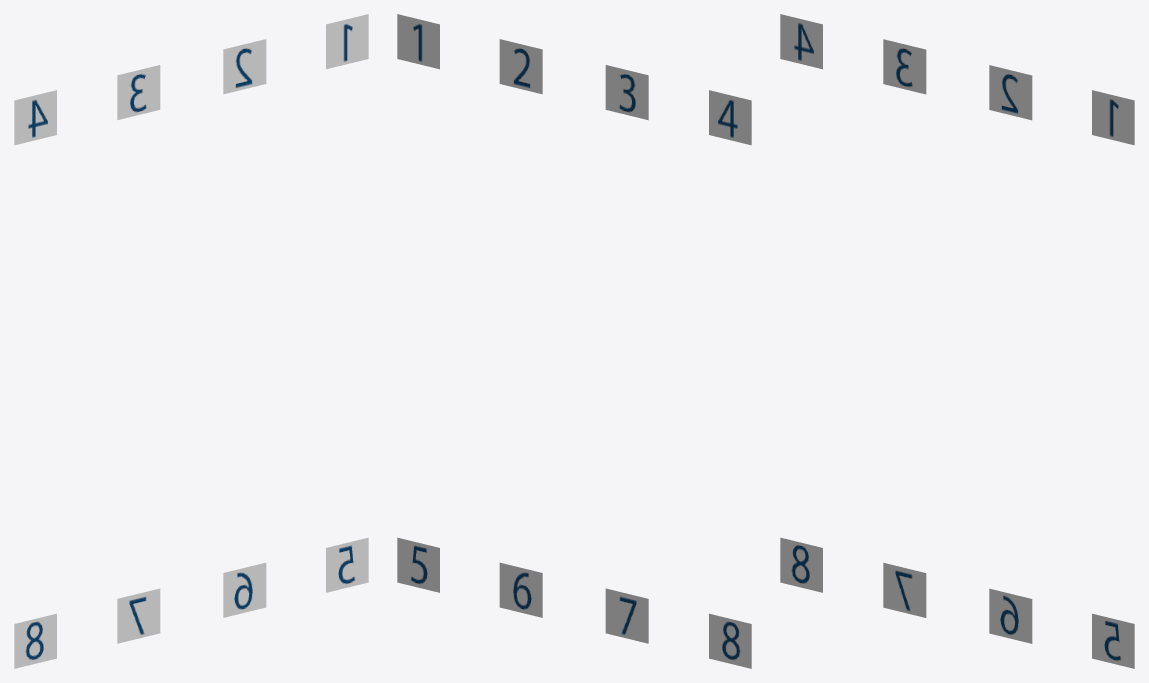
Rendered from extra stickers.fbx.
3 renders of one model, left to right at view 1: azimuth 30°, elevation 25°; view 2: azimuth 150°, elevation 25°; view 3: azimuth 330°, elevation 25°, orthographic.
Parts seen in each view (by area): view 1: pPlane100, pPlane101, pPlane104, pPlane105, pPlane102, pPlane103, pPlane99, pPlane106; view 2: pPlane100, pPlane101, pPlane104, pPlane105, pPlane102, pPlane103, pPlane99, pPlane106; view 3: pPlane100, pPlane101, pPlane104, pPlane105, pPlane99, pPlane106, pPlane102, pPlane103.
Boxes of the visible parts, left/top/right/bottom form: pPlane100: left=223, top=39, right=266, bottom=94; pPlane101: left=117, top=65, right=160, bottom=120; pPlane104: left=223, top=562, right=266, bottom=617; pPlane105: left=117, top=588, right=160, bottom=643; pPlane102: left=14, top=90, right=56, bottom=145; pPlane103: left=326, top=537, right=368, bottom=592; pPlane99: left=326, top=14, right=368, bottom=69; pPlane106: left=14, top=613, right=56, bottom=668; pPlane100: left=499, top=39, right=542, bottom=94; pPlane101: left=605, top=65, right=648, bottom=120; pPlane104: left=499, top=562, right=542, bottom=617; pPlane105: left=605, top=588, right=648, bottom=643; pPlane102: left=709, top=90, right=751, bottom=145; pPlane103: left=397, top=537, right=439, bottom=592; pPlane99: left=397, top=14, right=439, bottom=69; pPlane106: left=709, top=613, right=751, bottom=668; pPlane100: left=989, top=65, right=1032, bottom=120; pPlane101: left=883, top=39, right=926, bottom=94; pPlane104: left=989, top=588, right=1032, bottom=643; pPlane105: left=883, top=562, right=926, bottom=617; pPlane99: left=1092, top=90, right=1134, bottom=145; pPlane106: left=780, top=537, right=822, bottom=592; pPlane102: left=780, top=14, right=822, bottom=69; pPlane103: left=1092, top=613, right=1134, bottom=668.
Size of the model in its own units: 10.18 by 15.59 by 0.
Materials: 1 (1 with a texture image).
